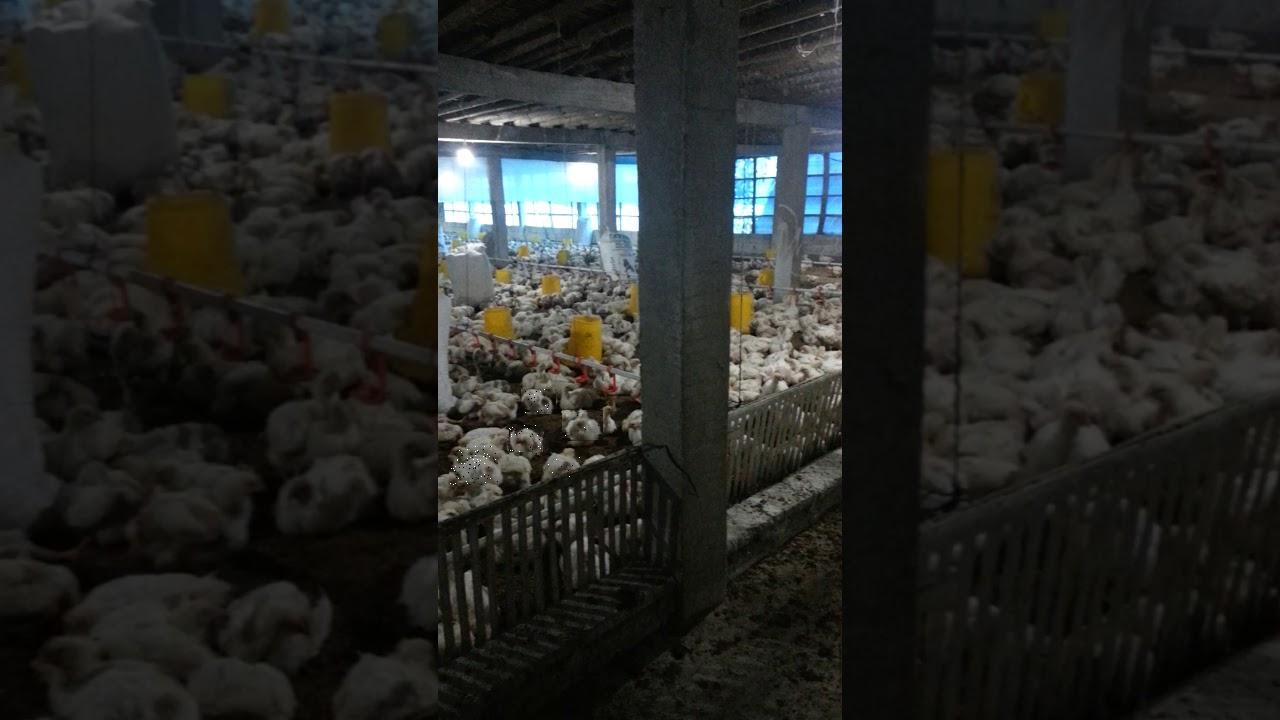chicken: (450, 446, 500, 485), (562, 411, 603, 443), (546, 447, 581, 477), (509, 426, 544, 455), (521, 390, 557, 414)
